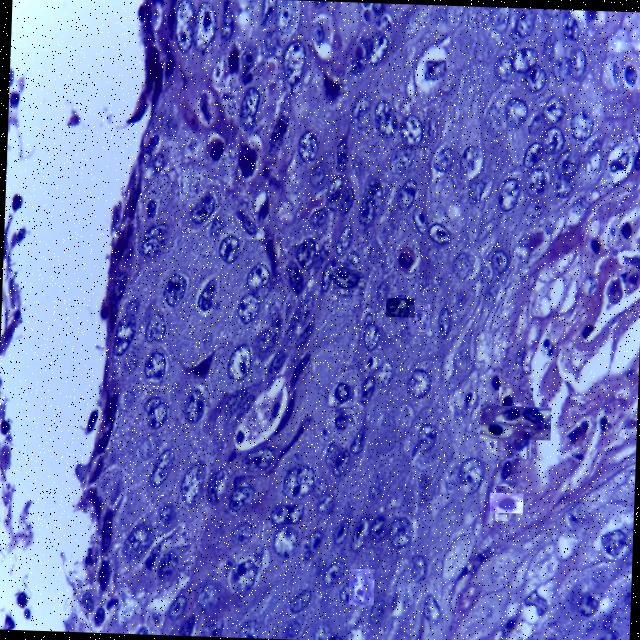Multiple Nucleol: (348, 568, 372, 603), (332, 267, 362, 288), (384, 297, 412, 316), (407, 304, 427, 330)
Nuclear Hyperchromatism: (479, 406, 549, 437), (488, 493, 521, 512)
